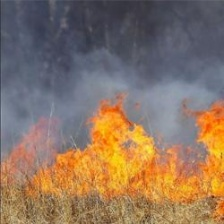fire: (33, 96, 224, 201)
